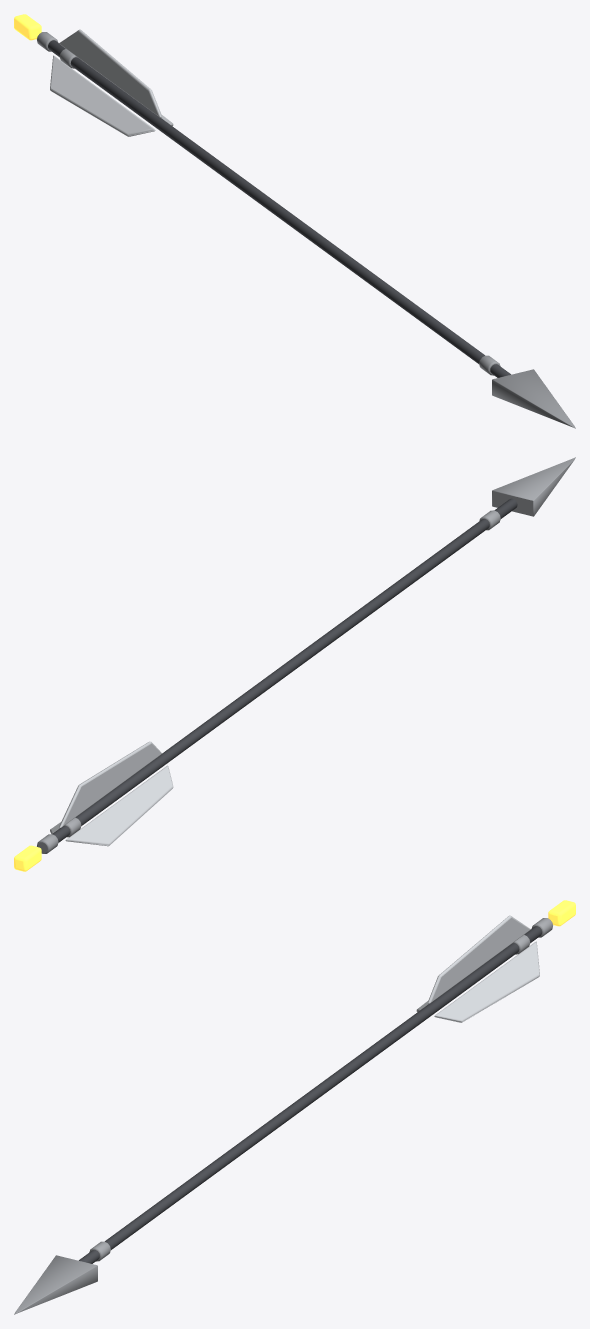
The model's file is CubeEscape_Arrow_Standard.glb.
3 renders of one model, top to bottom at view 1: azimuth 30°, elevation 25°; view 2: azimuth 150°, elevation 25°; view 3: azimuth 330°, elevation 25°, orthographic.
Parts seen in each view (by area): view 1: SM_BW_Arrow_Shaft, SM_BW_Arrow_Fletching2, SM_BW_Arrow_Fletching0, SM_BW_Arrow_Head; view 2: SM_BW_Arrow_Shaft, SM_BW_Arrow_Fletching2, SM_BW_Arrow_Fletching0, SM_BW_Arrow_Head, SM_BW_Arrow_Nock; view 3: SM_BW_Arrow_Shaft, SM_BW_Arrow_Fletching1, SM_BW_Arrow_Fletching0, SM_BW_Arrow_Head.
Boxes of the visible parts, x1,y1,x2,y2 form: SM_BW_Arrow_Shaft: [48, 40, 510, 377]; SM_BW_Arrow_Fletching2: [50, 55, 155, 136]; SM_BW_Arrow_Fletching0: [59, 29, 161, 117]; SM_BW_Arrow_Head: [492, 369, 575, 428]; SM_BW_Arrow_Shaft: [52, 498, 517, 842]; SM_BW_Arrow_Fletching2: [65, 765, 173, 846]; SM_BW_Arrow_Fletching0: [59, 741, 161, 827]; SM_BW_Arrow_Head: [492, 457, 575, 516]; SM_BW_Arrow_Nock: [14, 845, 41, 871]; SM_BW_Arrow_Shaft: [79, 926, 541, 1263]; SM_BW_Arrow_Fletching1: [434, 941, 539, 1022]; SM_BW_Arrow_Fletching0: [428, 915, 530, 1003]; SM_BW_Arrow_Head: [14, 1255, 97, 1314].
Size of the model in its own units: 0.0452 by 0.0395 by 0.7298.
